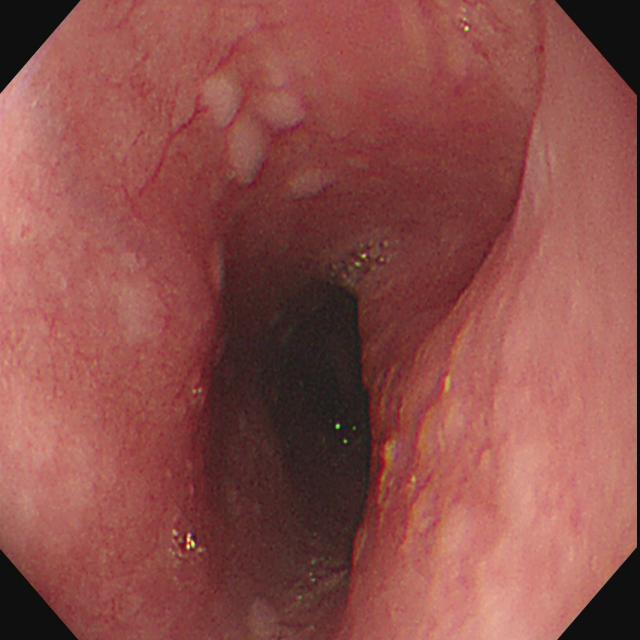A: (358, 333, 551, 581), (148, 249, 243, 479)
E: (231, 265, 385, 591)
J: (199, 66, 250, 135), (259, 71, 310, 140), (218, 123, 269, 192), (282, 153, 345, 207)
T: (328, 237, 395, 284), (167, 515, 207, 564)
